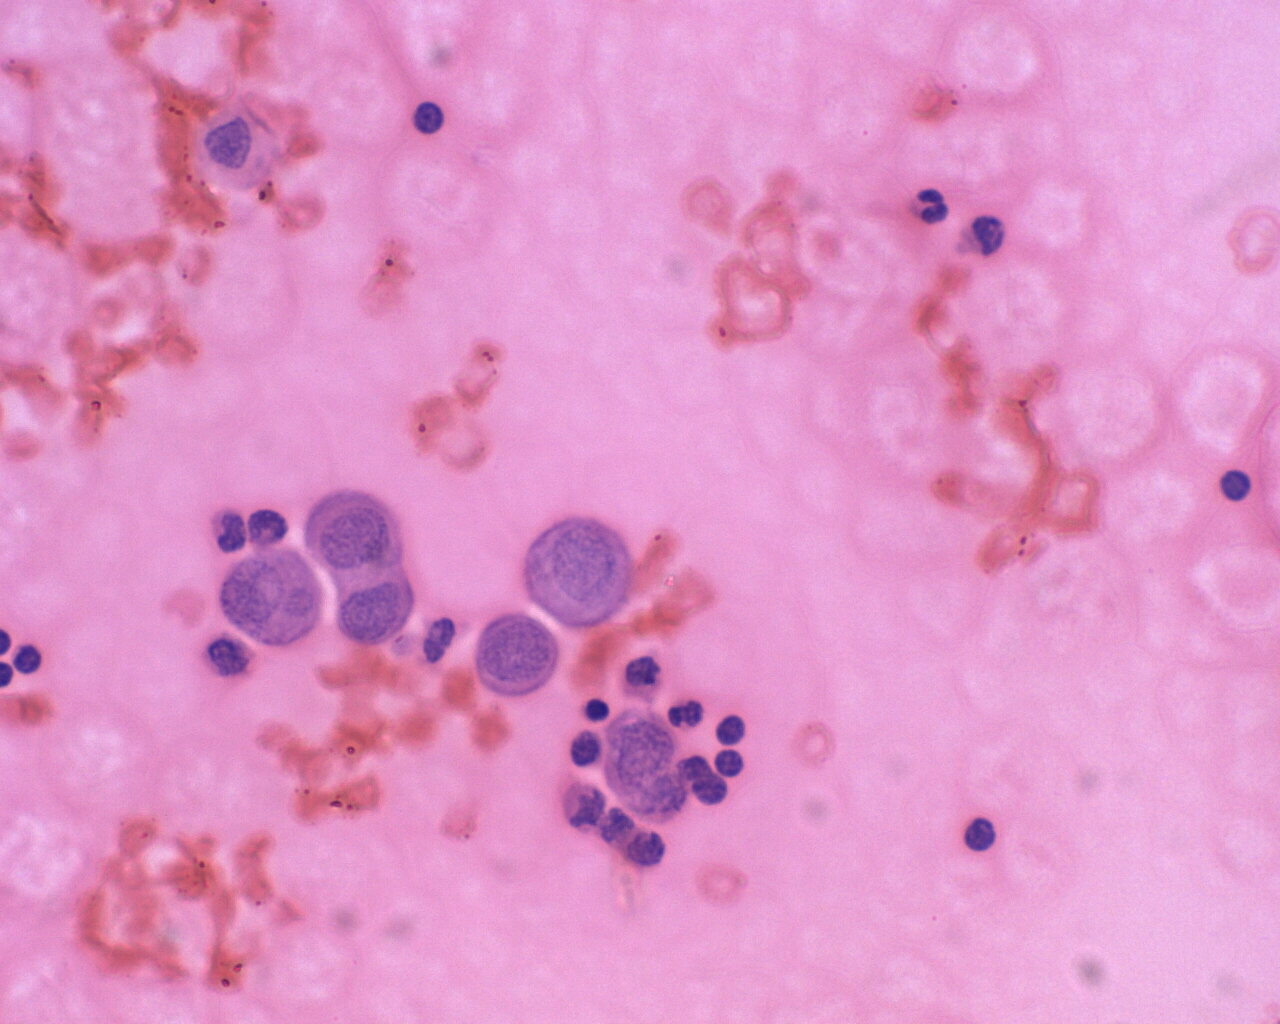ab: (523, 512, 641, 637), (215, 556, 328, 655), (307, 488, 411, 573), (466, 612, 560, 703), (335, 571, 417, 652)
lymph: (951, 812, 1000, 861), (1216, 467, 1265, 513), (404, 98, 456, 142), (711, 709, 750, 749)
neutro: (906, 178, 957, 228)
